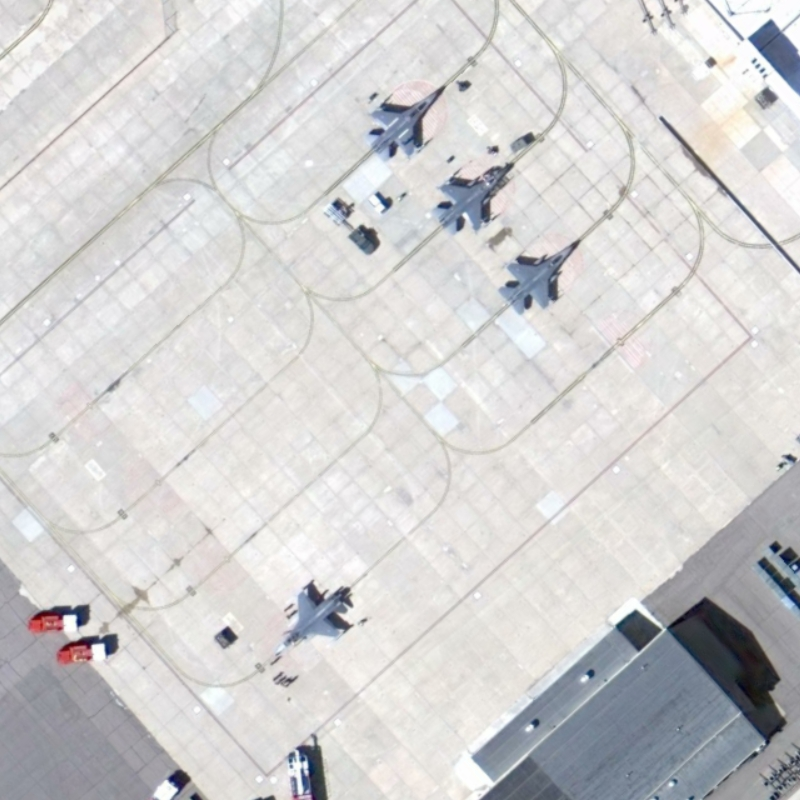A5: (267, 575, 362, 659), (493, 235, 585, 316), (432, 156, 518, 239), (368, 80, 442, 161)
